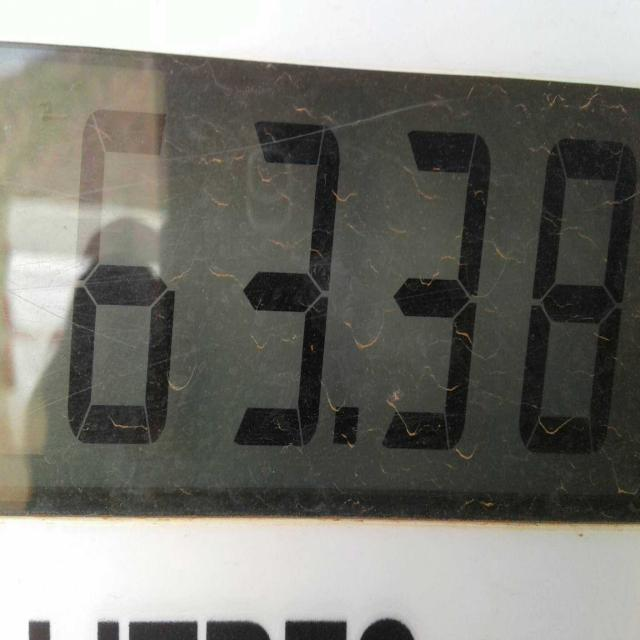.: (317, 381, 370, 473)
3: (388, 136, 492, 454), (240, 121, 338, 450)
6: (72, 113, 178, 443)
8: (524, 140, 638, 454)
